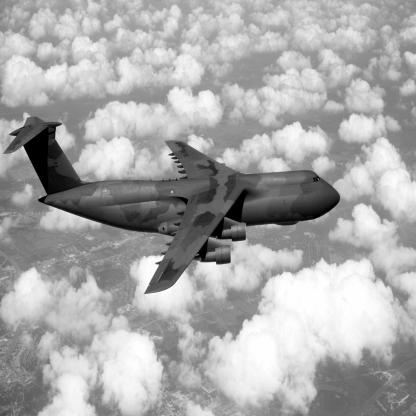C5: (3, 117, 341, 296)
